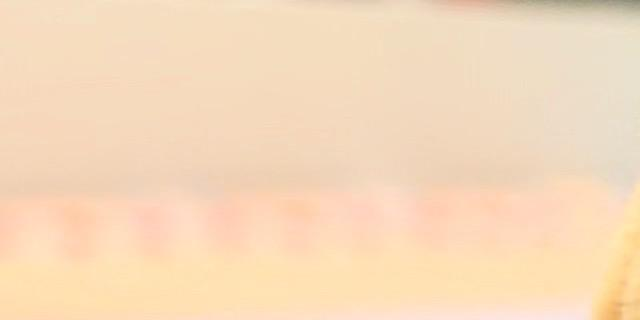burger: (406, 0, 640, 320)
